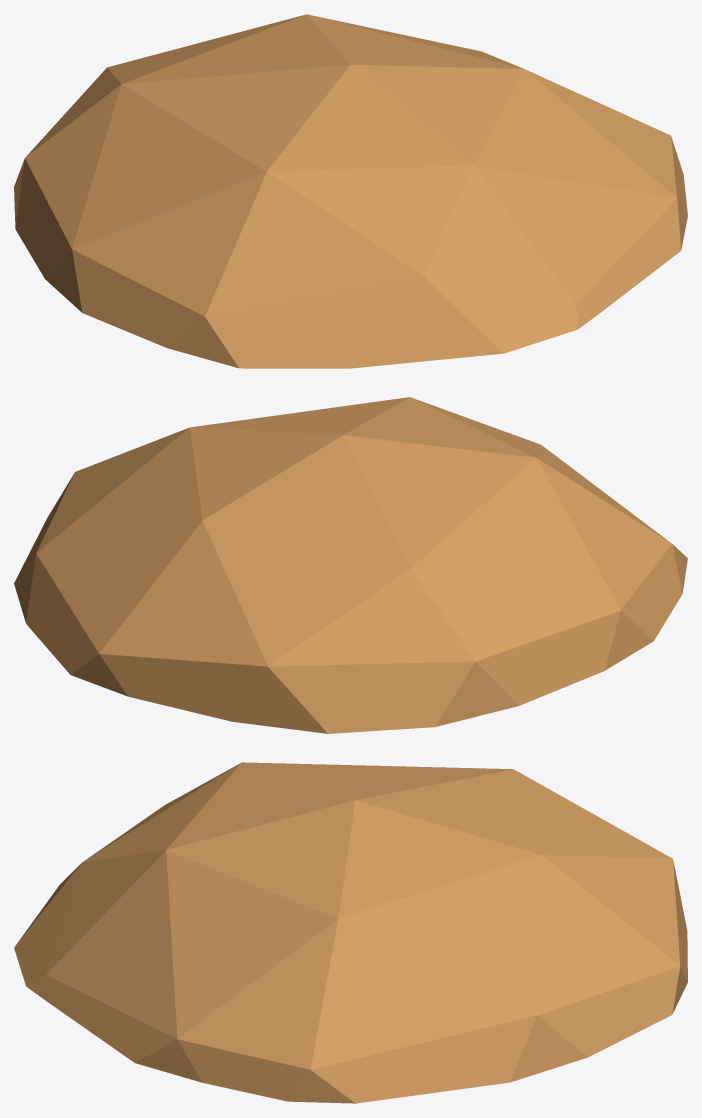
File: SandPileBag.fbx
3 views of the same model, one above another, from view 1: azimuth 30°, elevation 25°; view 2: azimuth 150°, elevation 25°; view 3: azimuth 270°, elevation 25° (orthographic). The views are drawn at different scales.
Parts seen in each view (by area): view 1: SandPileBag; view 2: SandPileBag; view 3: SandPileBag.
Part boxes in pixels (x1,y1,x2,y2): SandPileBag: (14, 14, 687, 368); SandPileBag: (14, 397, 687, 733); SandPileBag: (14, 762, 687, 1103).
Bounding box in the file's own units: 33.94 × 8.6 × 33.51.
